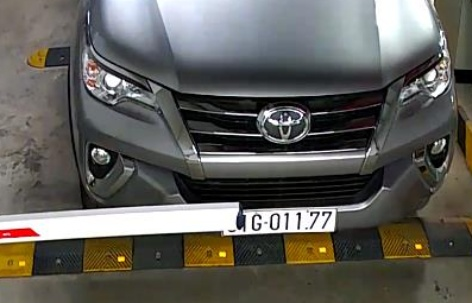plate: (217, 199, 347, 242)
